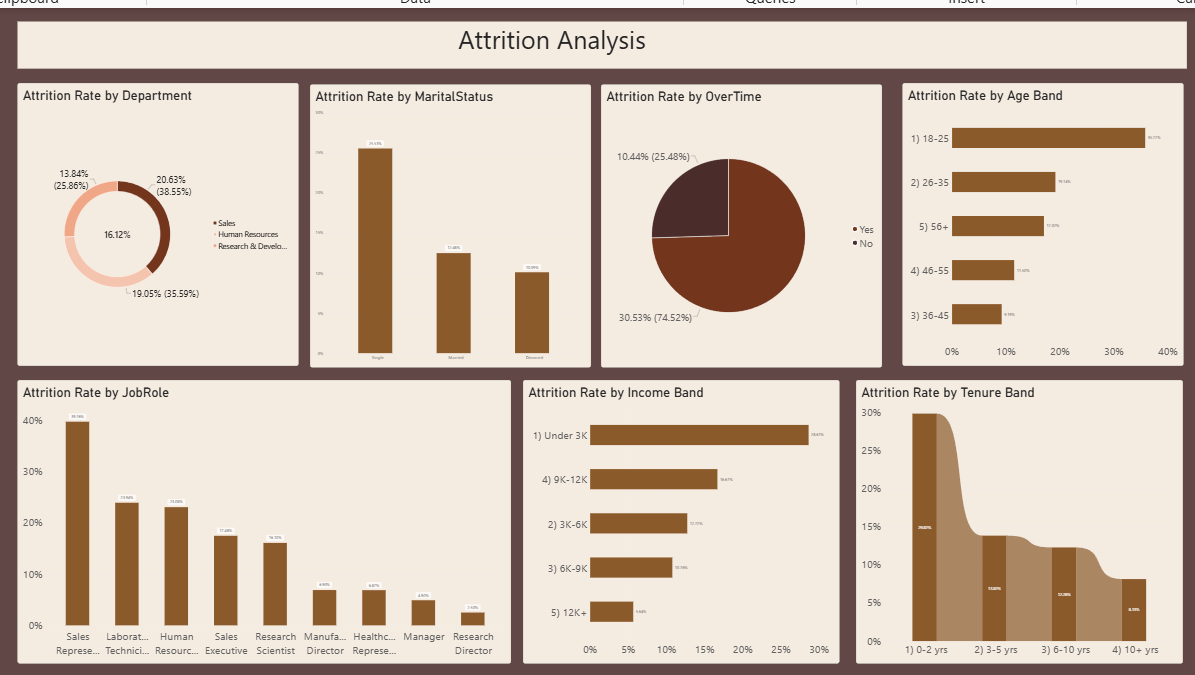

The page's visual inventory and layout, read from the dashboard file:
{"tool":"powerbi","page":{"name":"Attrition Analysis","canvas":[3840,2160],"ordinal":1},"visuals":[{"type":"donutChart","fields":{"Category":["HR.Department"],"Y":["HR.Attrition Rate"]},"box":[60,240,894,900],"z":0},{"type":"lineStackedColumnComboChart","fields":{"Category":["HR.JobRole"],"Y":["HR.Attrition Rate"]},"box":[62,1183.4,1569.9,901.9],"z":1000},{"type":"pieChart","fields":{"Category":["HR.OverTime"],"Y":["HR.Attrition Rate"]},"box":[1918.3,243.4,894,900],"z":2000},{"type":"lineStackedColumnComboChart","fields":{"Category":["HR.MaritalStatus"],"Y":["HR.Attrition Rate"]},"box":[992.5,243.4,894,900],"z":3000},{"type":"clusteredBarChart","fields":{"Category":["HR.Age Band"],"Y":["HR.Attrition Rate"]},"box":[2877,240,894,900],"z":4000},{"type":"clusteredBarChart","fields":{"Category":["HR.Income Band"],"Y":["HR.Attrition Rate"]},"box":[1670.1,1183.4,1006.9,901.9],"z":5000},{"type":"ribbonChart","fields":{"Category":["HR.Tenure Band"],"Y":["HR.Attrition Rate"]},"box":[2729.5,1183.4,1040.3,901.9],"z":6000},{"type":"textbox","box":[60,45,3720,150],"z":9000}]}

Visuals, with their boxes in screenshot pixels (x1, y1, x2, y2):
donutChart - HR.Department x HR.Attrition Rate: x1=4 y1=76 x2=288 y2=363
lineStackedColumnComboChart - HR.JobRole x HR.Attrition Rate: x1=4 y1=377 x2=504 y2=664
pieChart - HR.OverTime x HR.Attrition Rate: x1=595 y1=77 x2=879 y2=364
lineStackedColumnComboChart - HR.MaritalStatus x HR.Attrition Rate: x1=300 y1=77 x2=585 y2=364
clusteredBarChart - HR.Age Band x HR.Attrition Rate: x1=900 y1=76 x2=1184 y2=363
clusteredBarChart - HR.Income Band x HR.Attrition Rate: x1=516 y1=377 x2=836 y2=664
ribbonChart - HR.Tenure Band x HR.Attrition Rate: x1=853 y1=377 x2=1184 y2=664
textbox: x1=4 y1=14 x2=1187 y2=62
